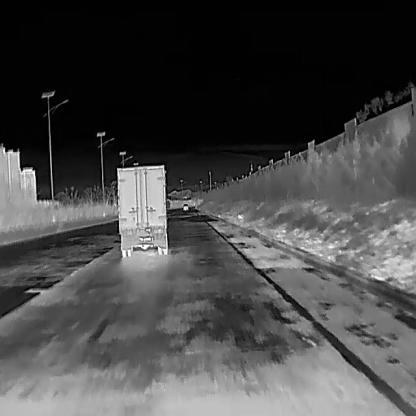car: (182, 202, 188, 210)
truck: (116, 164, 170, 257)
